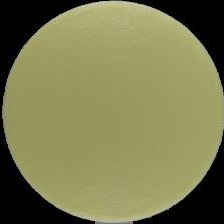0603-0026: (0, 0, 224, 224)
